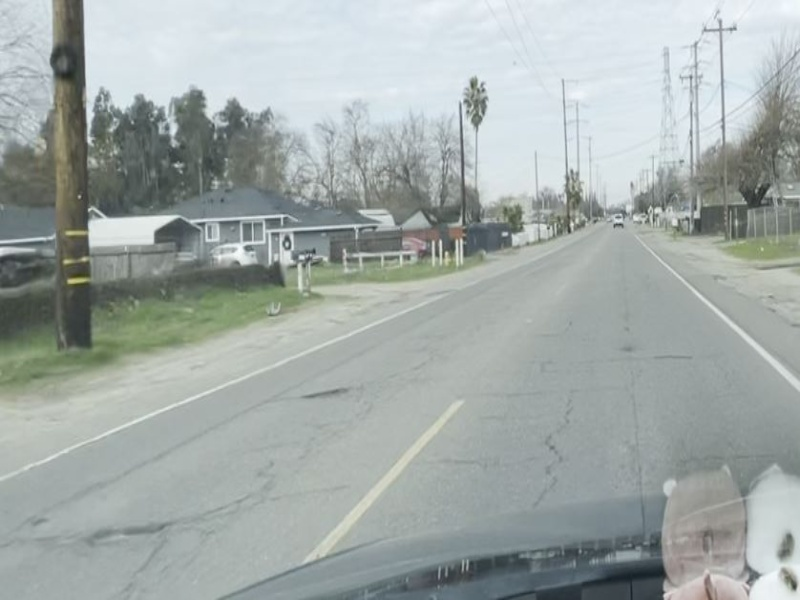pothole: (89, 523, 167, 541), (296, 383, 349, 403)
